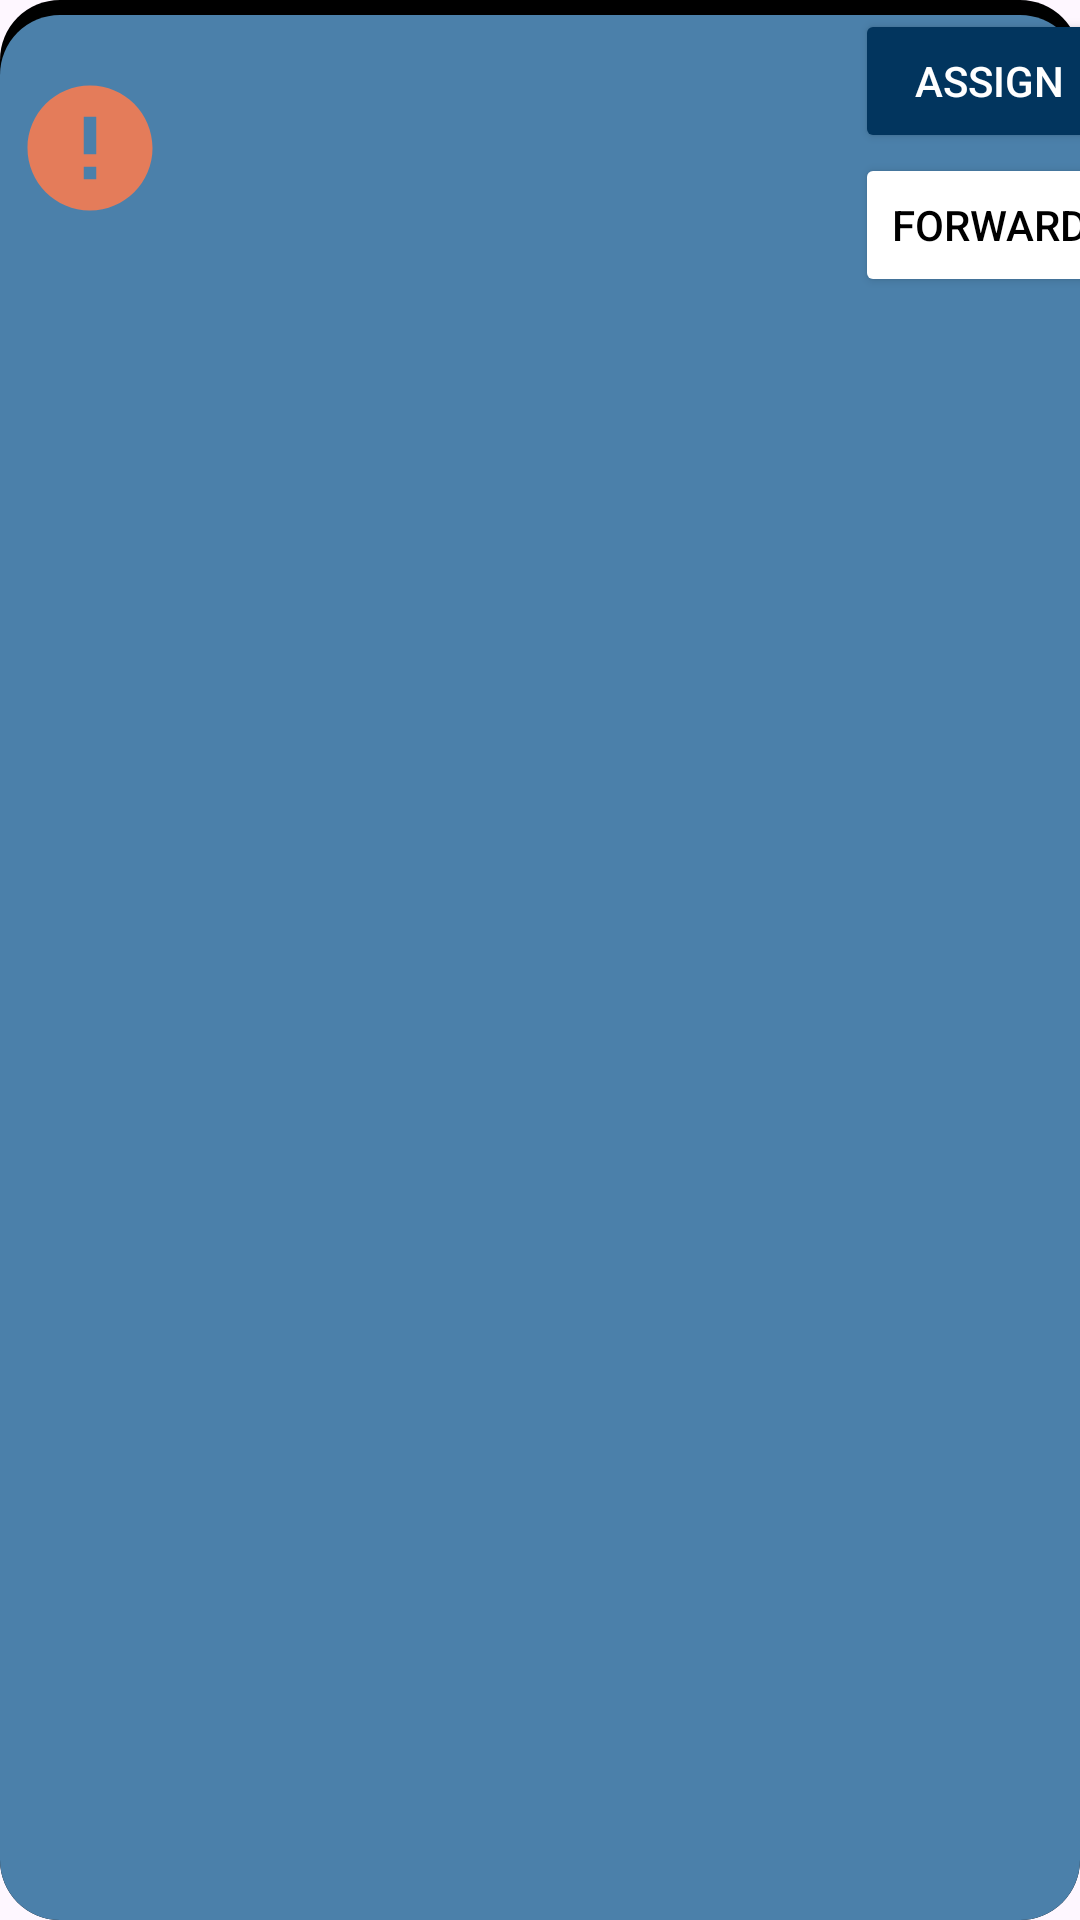

Where icons sit on this 1080×1920 app screen, as (x1, y1, x2, y2):
error: (27, 85, 153, 211)
